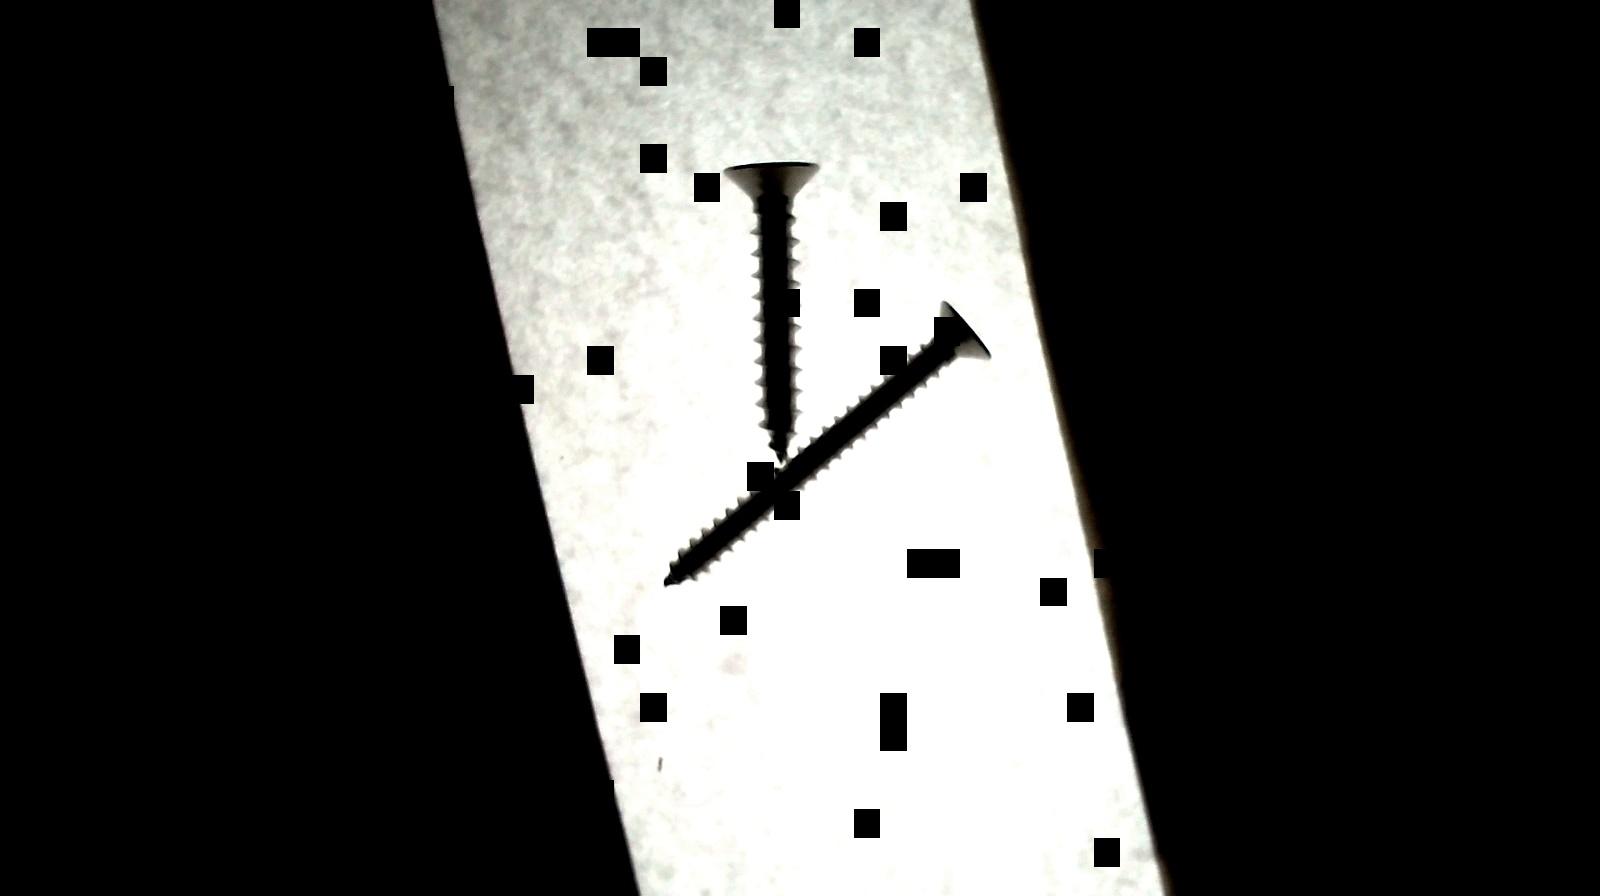S001: (719, 159, 827, 468)
S002: (654, 295, 995, 598)
